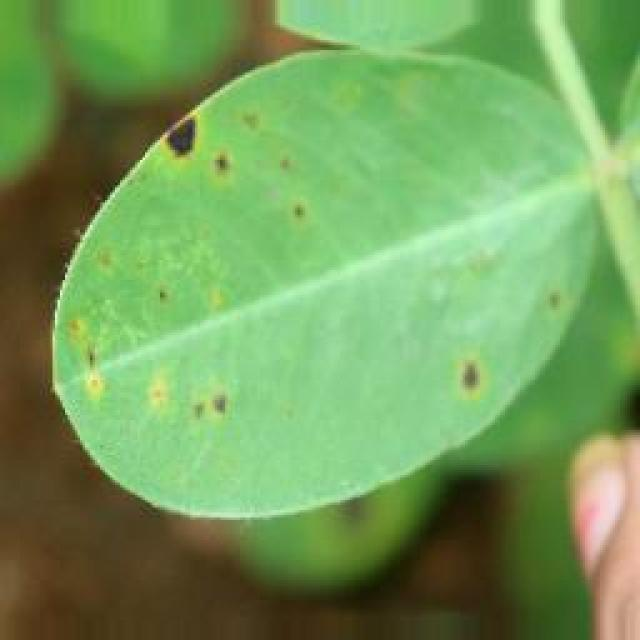Sigatoka: (242, 122, 331, 244), (38, 295, 129, 409), (130, 108, 241, 192), (140, 356, 266, 429), (511, 261, 565, 345), (74, 236, 150, 295), (433, 333, 491, 401)
